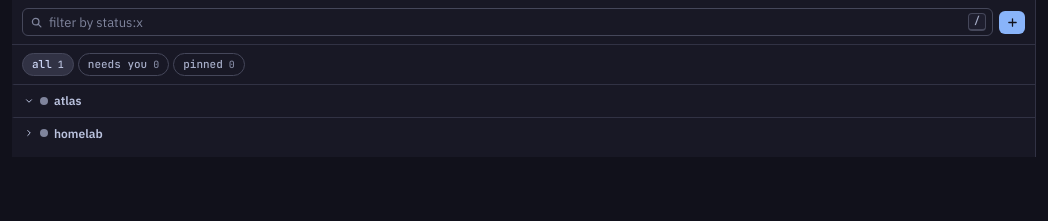
clicking an agent name opens its main chat while the chevron only toggles
This screenshot has width=1048, height=221.
Click the button with aria-label "Open homelab main chat" at point(78, 133), box x1=38 y1=118 x2=1035 y2=149
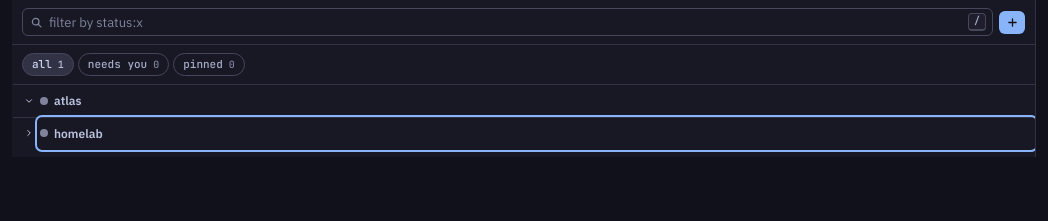
Click the button named "homelab" at point(26, 133), box x1=14 y1=118 x2=38 y2=149
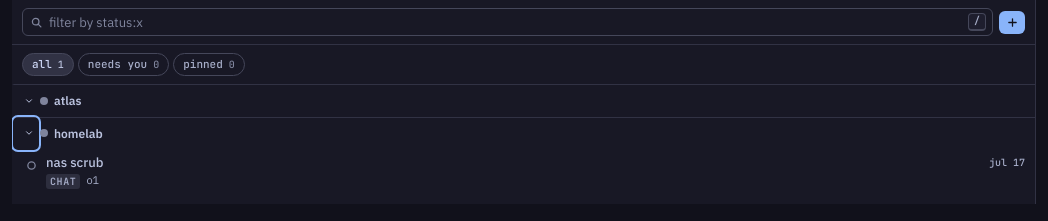
expect the button named "homelab" is expanded: met, box x1=14 y1=118 x2=38 y2=149
